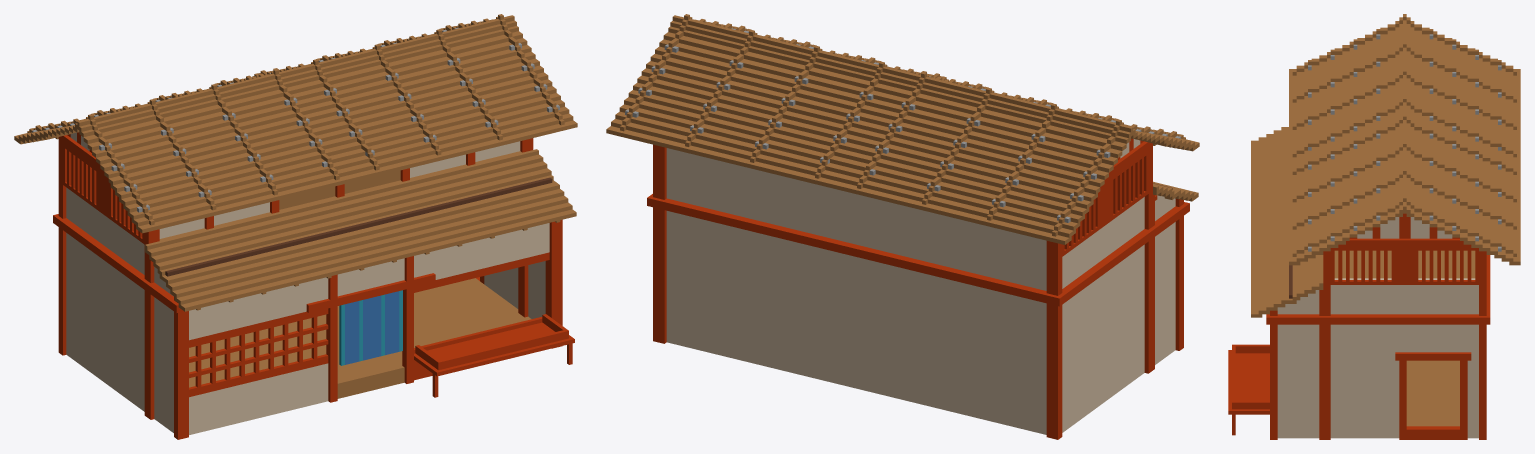
The model's file is hiraya-1.obj.
3 renders of one model, left to right at view 1: azimuth 30°, elevation 25°; view 2: azimuth 150°, elevation 25°; view 3: azimuth 270°, elevation 25°, orthographic. The views are drawn at different scales.
Parts seen in each view (by area): view 1: hiraya-1; view 2: hiraya-1; view 3: hiraya-1.
Part boxes in pixels (left/top/right/bottom): hiraya-1: left=14, top=14, right=577, bottom=439; hiraya-1: left=606, top=14, right=1199, bottom=439; hiraya-1: left=1228, top=14, right=1520, bottom=439.
Size of the model in its own units: 120 by 72 by 77.
Materials: 1 (1 with a texture image).
